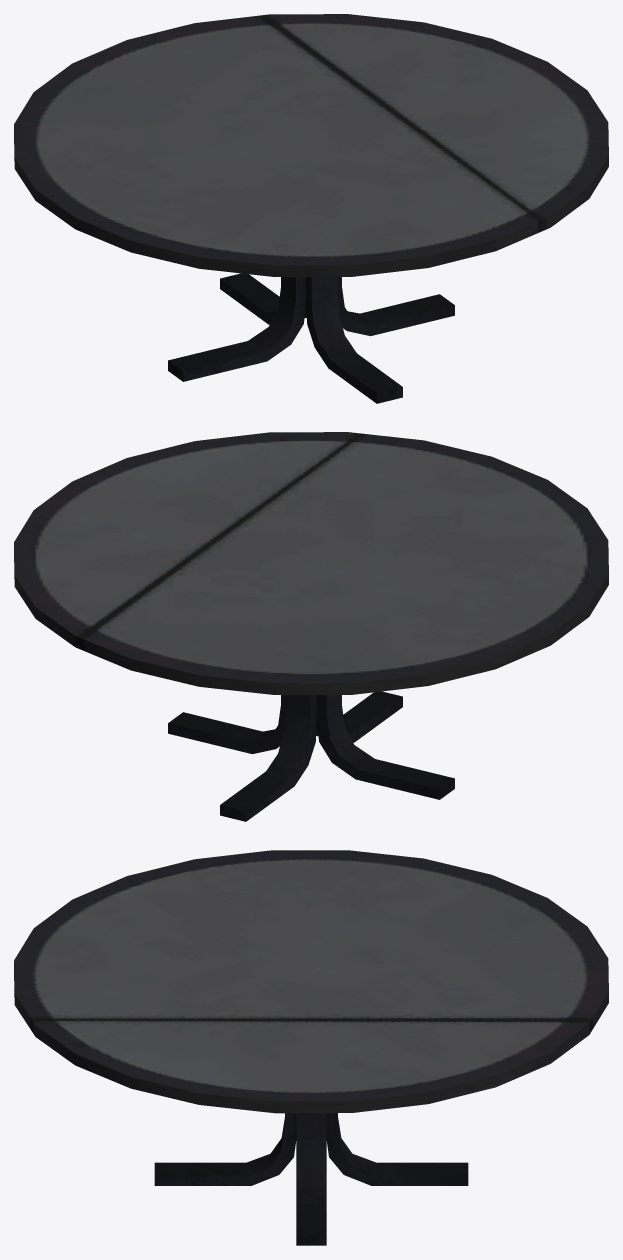
File: TableRound02.FBX
3 renders of one model, top to bottom at view 1: azimuth 30°, elevation 25°; view 2: azimuth 150°, elevation 25°; view 3: azimuth 270°, elevation 25°, orthographic.
Visible parts, largest first — view 1: TableRound02; view 2: TableRound02; view 3: TableRound02.
Boxes of the visible parts, <box> form: TableRound02: <box>14,14,608,403</box>; TableRound02: <box>14,432,608,821</box>; TableRound02: <box>14,850,608,1245</box>.
Size of the model in its own units: 1.98 by 0.7492 by 1.98.
